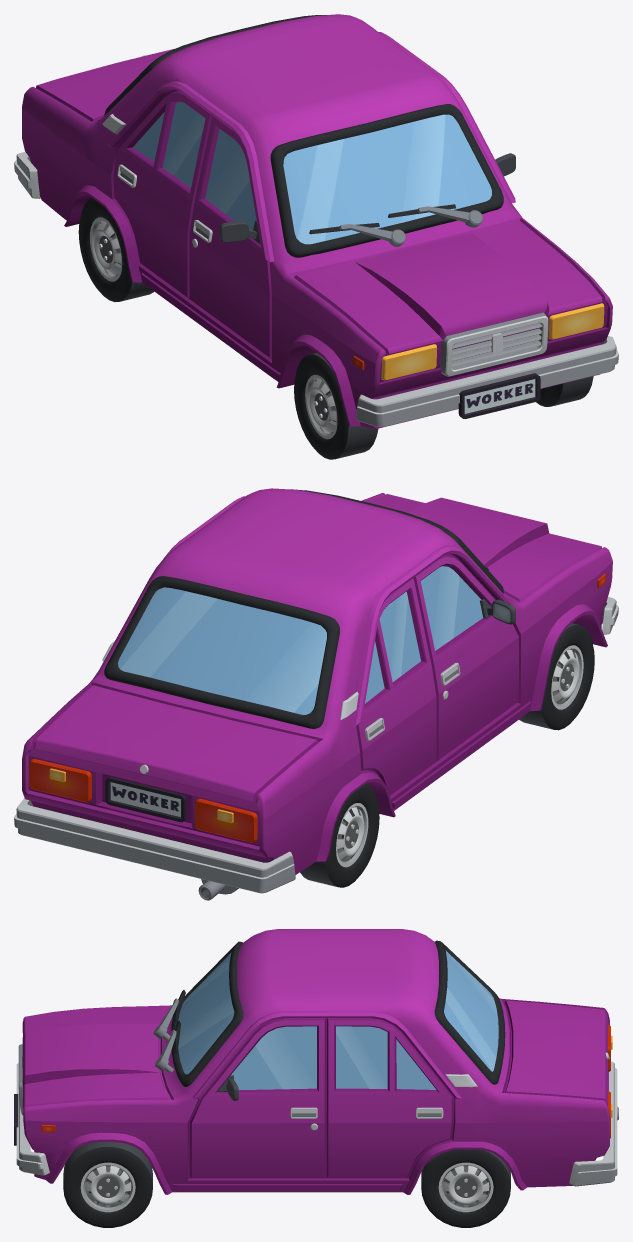
Rendered from ClassicSovietCar_GRP.fbx.
3 renders of one model, top to bottom at view 1: azimuth 30°, elevation 25°; view 2: azimuth 150°, elevation 25°; view 3: azimuth 270°, elevation 25°, orthographic. The views are drawn at different scales.
Visible parts, largest first — view 1: ClassicSovietCar_mesh, ClassicSovietCar_Wheel_FR_mesh, ClassicSovietCar_Wheel_BR_mesh, ClassicSovietCar_Wheel_FL_mesh; view 2: ClassicSovietCar_mesh, ClassicSovietCar_Wheel_FR_mesh, ClassicSovietCar_Wheel_BR_mesh; view 3: ClassicSovietCar_mesh, ClassicSovietCar_Wheel_FL_mesh, ClassicSovietCar_Wheel_BL_mesh.
Part boxes in pixels (x1,y1,x2,y2): ClassicSovietCar_mesh: (14,14,618,428); ClassicSovietCar_Wheel_FR_mesh: (294,352,378,459); ClassicSovietCar_Wheel_BR_mesh: (78,198,154,301); ClassicSovietCar_Wheel_FL_mesh: (536,376,593,406); ClassicSovietCar_mesh: (14,488,618,900); ClassicSovietCar_Wheel_FR_mesh: (519,623,594,730); ClassicSovietCar_Wheel_BR_mesh: (300,783,379,887); ClassicSovietCar_mesh: (14,929,618,1194); ClassicSovietCar_Wheel_FL_mesh: (63,1142,152,1227); ClassicSovietCar_Wheel_BL_mesh: (421,1149,510,1227).
Bounding box in the file's own units: 1.37 × 1.16 × 2.93.
